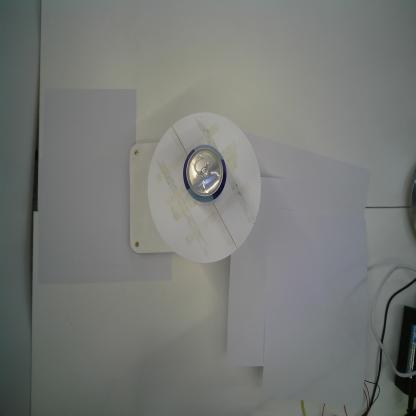Alcohol: (180, 142, 228, 206)
